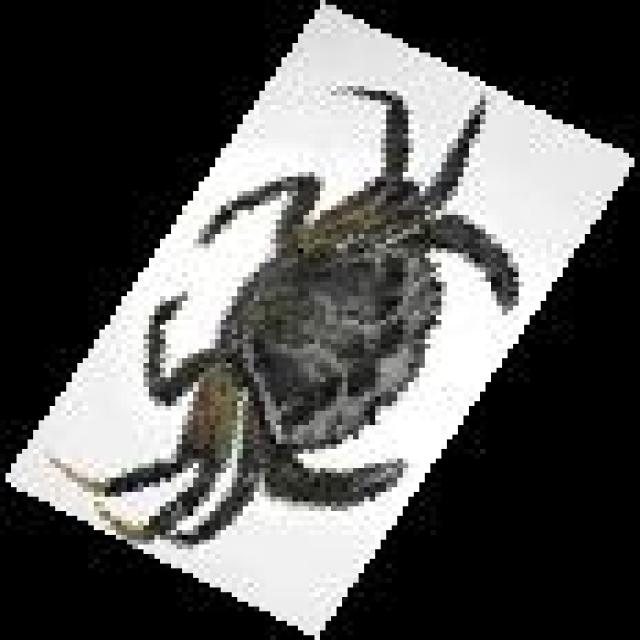European Green crab: (55, 86, 513, 540)
